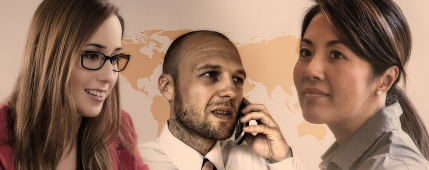female: (288, 3, 408, 166), (25, 1, 121, 149)
male: (155, 29, 247, 141)
